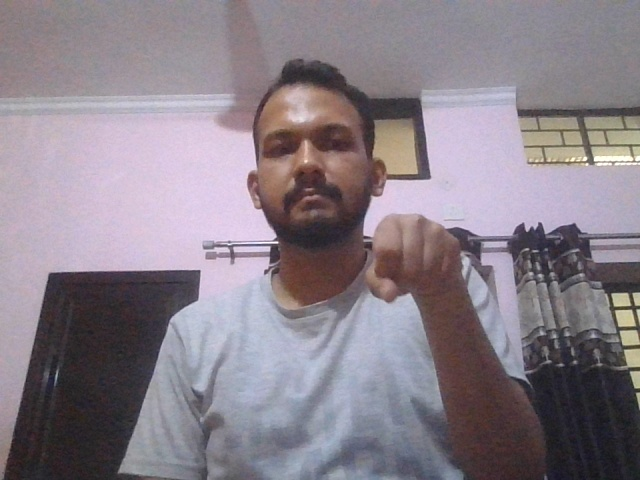yes: (365, 214, 467, 305)
